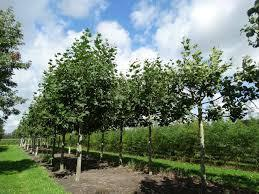tree: (38, 24, 123, 180), (153, 39, 241, 185), (122, 56, 191, 174)
